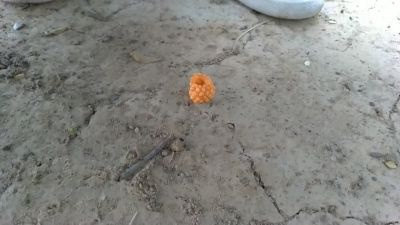eggs: (194, 76, 215, 102)
